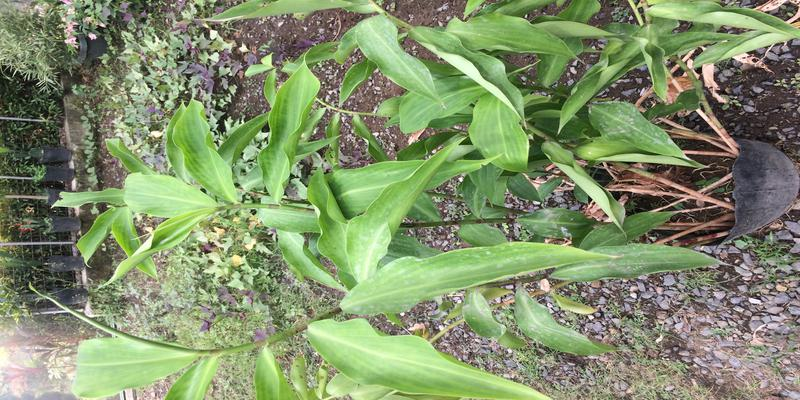Insulin: (276, 61, 738, 323)
